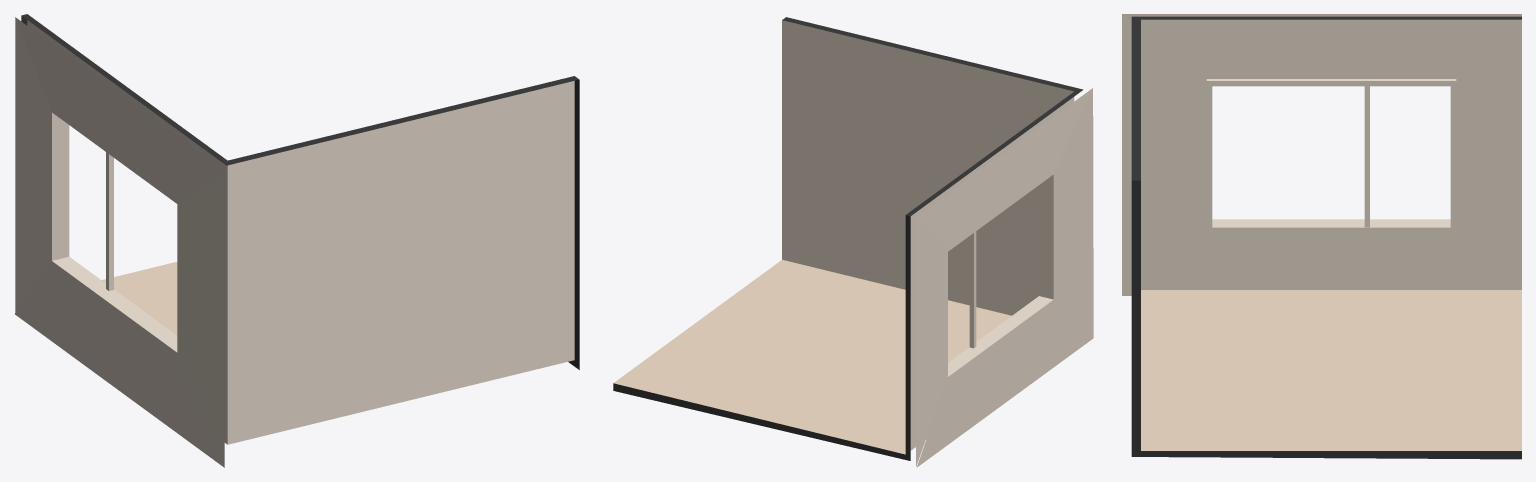
File: Office.fbx
3 renders of one model, left to right at view 1: azimuth 30°, elevation 25°; view 2: azimuth 150°, elevation 25°; view 3: azimuth 270°, elevation 25°, orthographic. The views are drawn at different scales.
Parts seen in each view (by area): view 1: Office.001; view 2: Office.001; view 3: Office.001.
Boxes of the visible parts, x1=… form: Office.001: x1=15, y1=14, x2=579, y2=467; Office.001: x1=613, y1=17, x2=1093, y2=467; Office.001: x1=1122, y1=14, x2=1521, y2=459.
Size of the model in its own units: 4.21 by 3.38 by 4.26.
